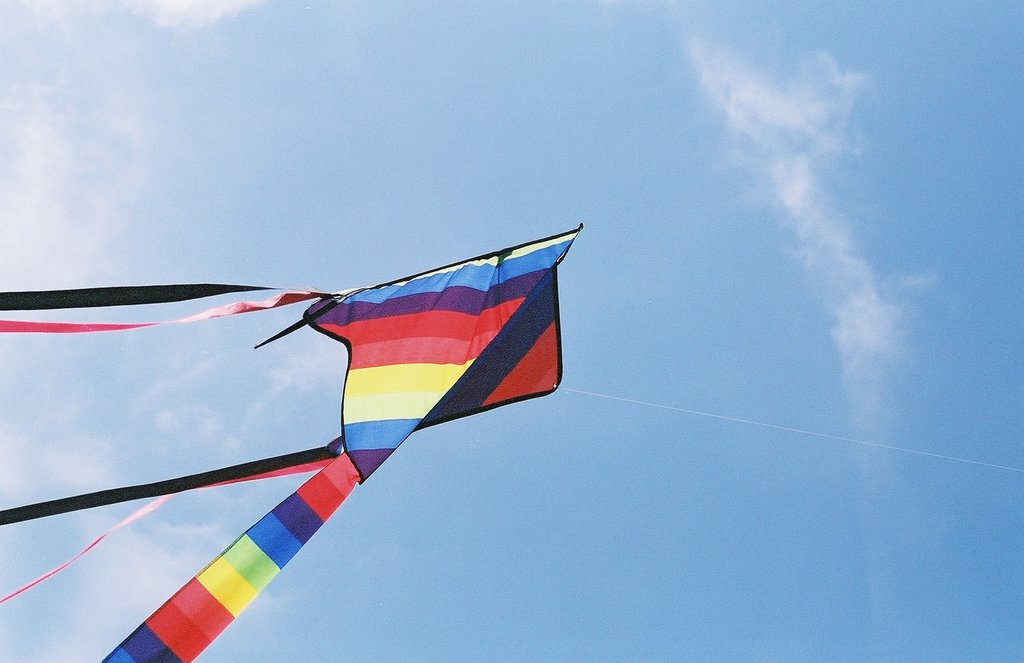kite: (1, 222, 582, 663)
